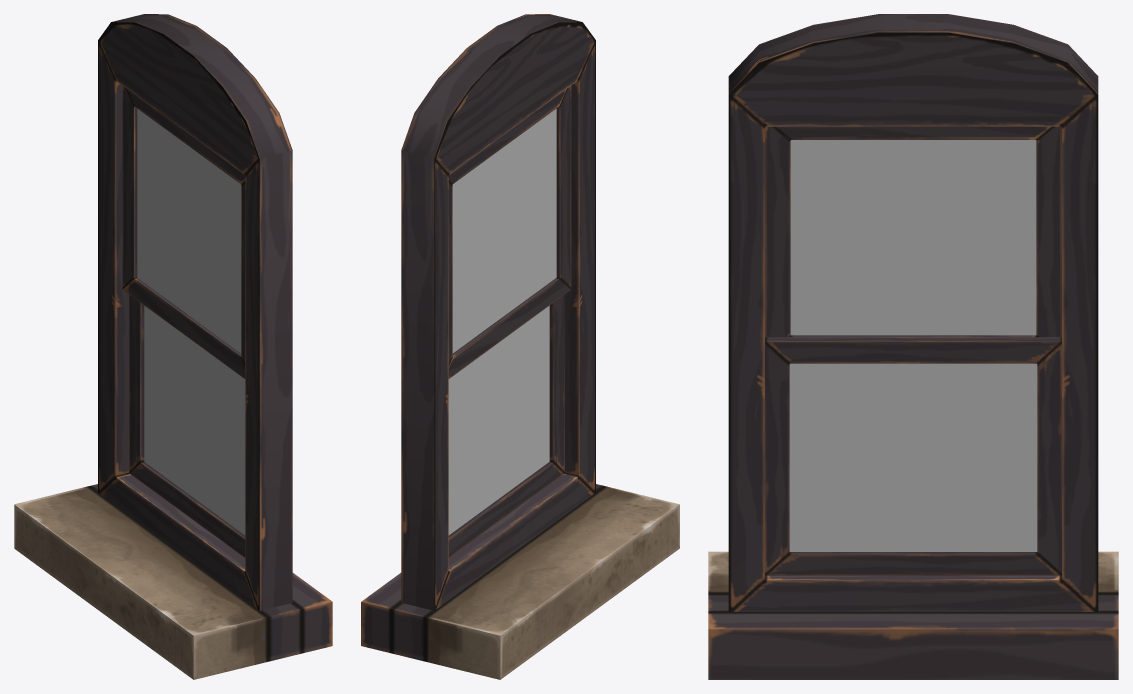
Rendered from window09.FBX.
3 renders of one model, left to right at view 1: azimuth 30°, elevation 25°; view 2: azimuth 150°, elevation 25°; view 3: azimuth 270°, elevation 25°, orthographic. The views are drawn at different scales.
Visible parts, largest first — view 1: window09_frame, window09_glass01, window09_glass02, window09_slide; view 2: window09_frame, window09_glass01, window09_glass02, window09_slide; view 3: window09_frame, window09_glass01, window09_glass02, window09_slide.
Part boxes in pixels (bbox=[...]): window09_frame: bbox=[14, 14, 332, 679]; window09_glass01: bbox=[137, 108, 241, 353]; window09_glass02: bbox=[144, 306, 245, 535]; window09_slide: bbox=[129, 295, 245, 557]; window09_frame: bbox=[361, 14, 679, 679]; window09_glass01: bbox=[452, 108, 556, 353]; window09_glass02: bbox=[448, 305, 549, 535]; window09_slide: bbox=[448, 294, 564, 557]; window09_frame: bbox=[708, 14, 1118, 679]; window09_glass01: bbox=[790, 140, 1036, 335]; window09_glass02: bbox=[789, 363, 1037, 551]; window09_slide: bbox=[765, 337, 1061, 575].
Size of the model in its own units: 44.74 by 169 by 100.
